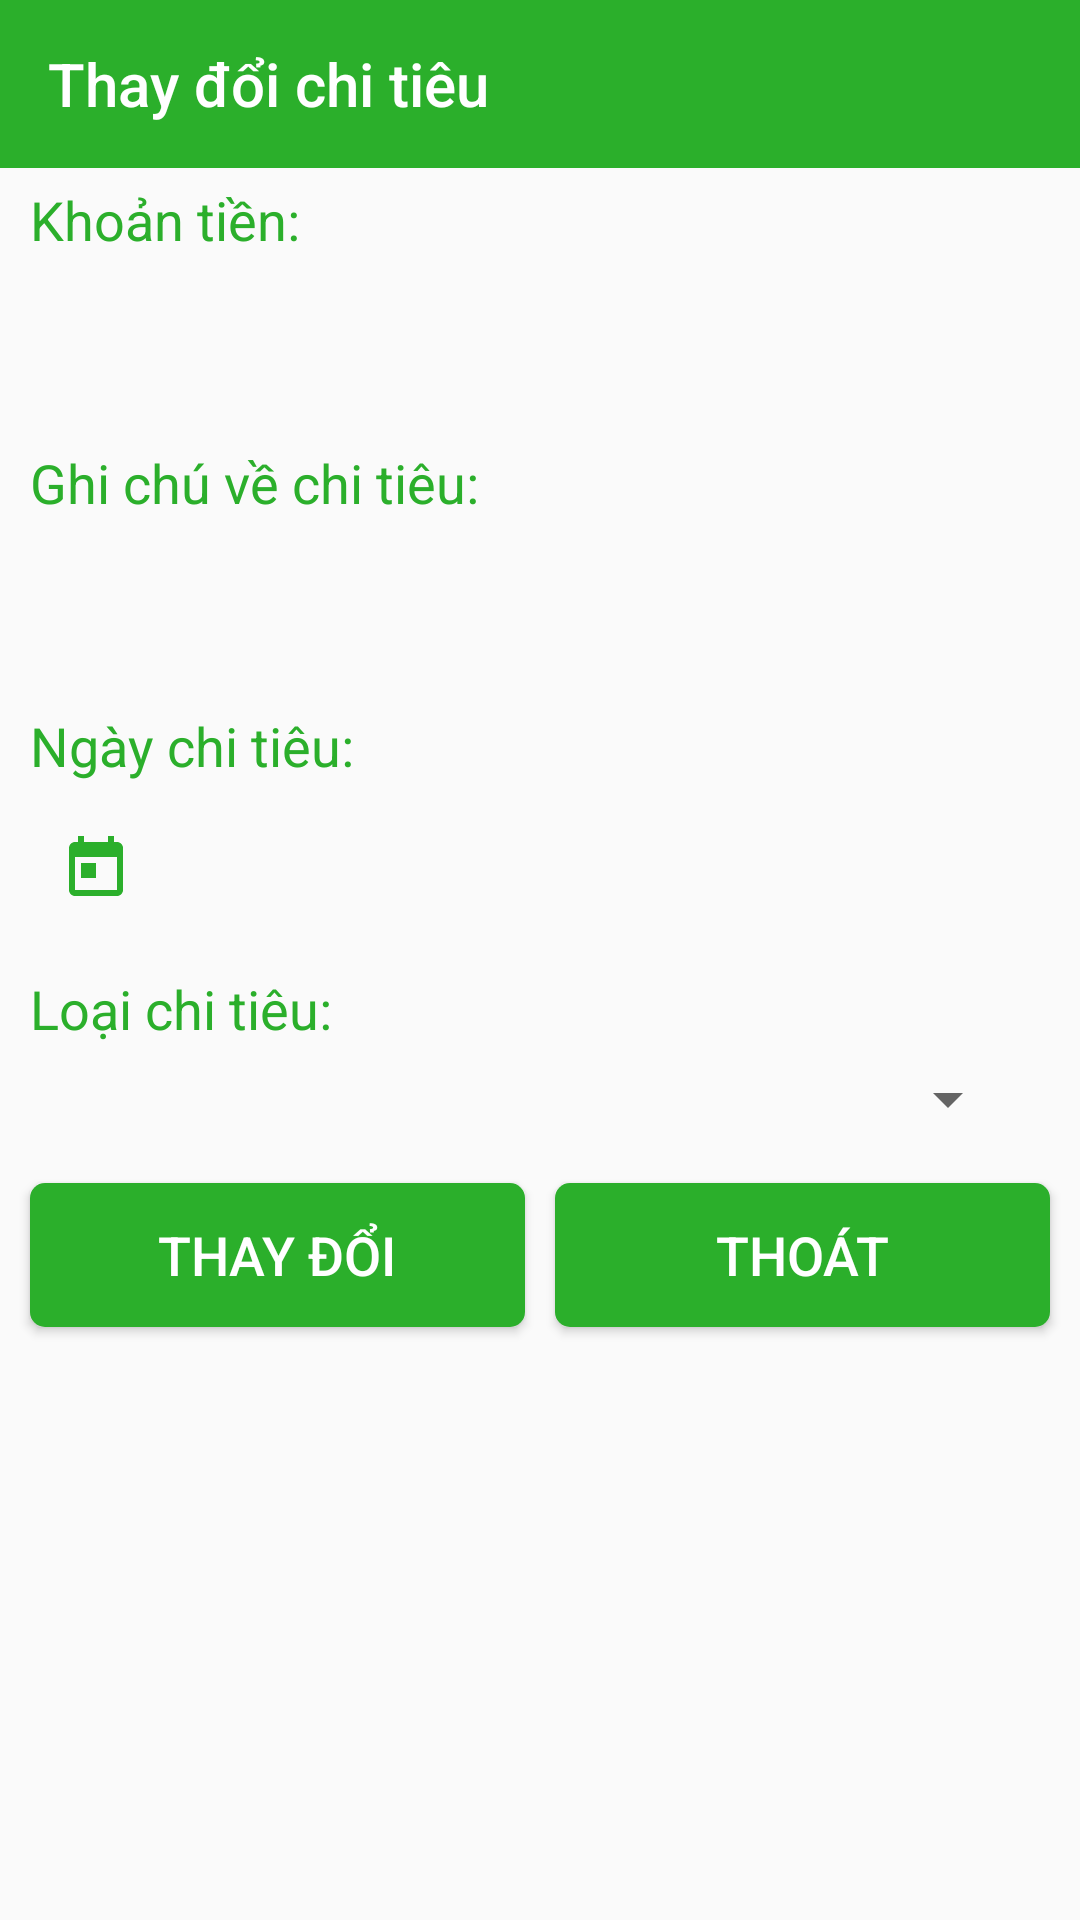

Icon click points for this 1080×1920 phone screenshot, format (x=x, y=y):
today: (x=96, y=866)
